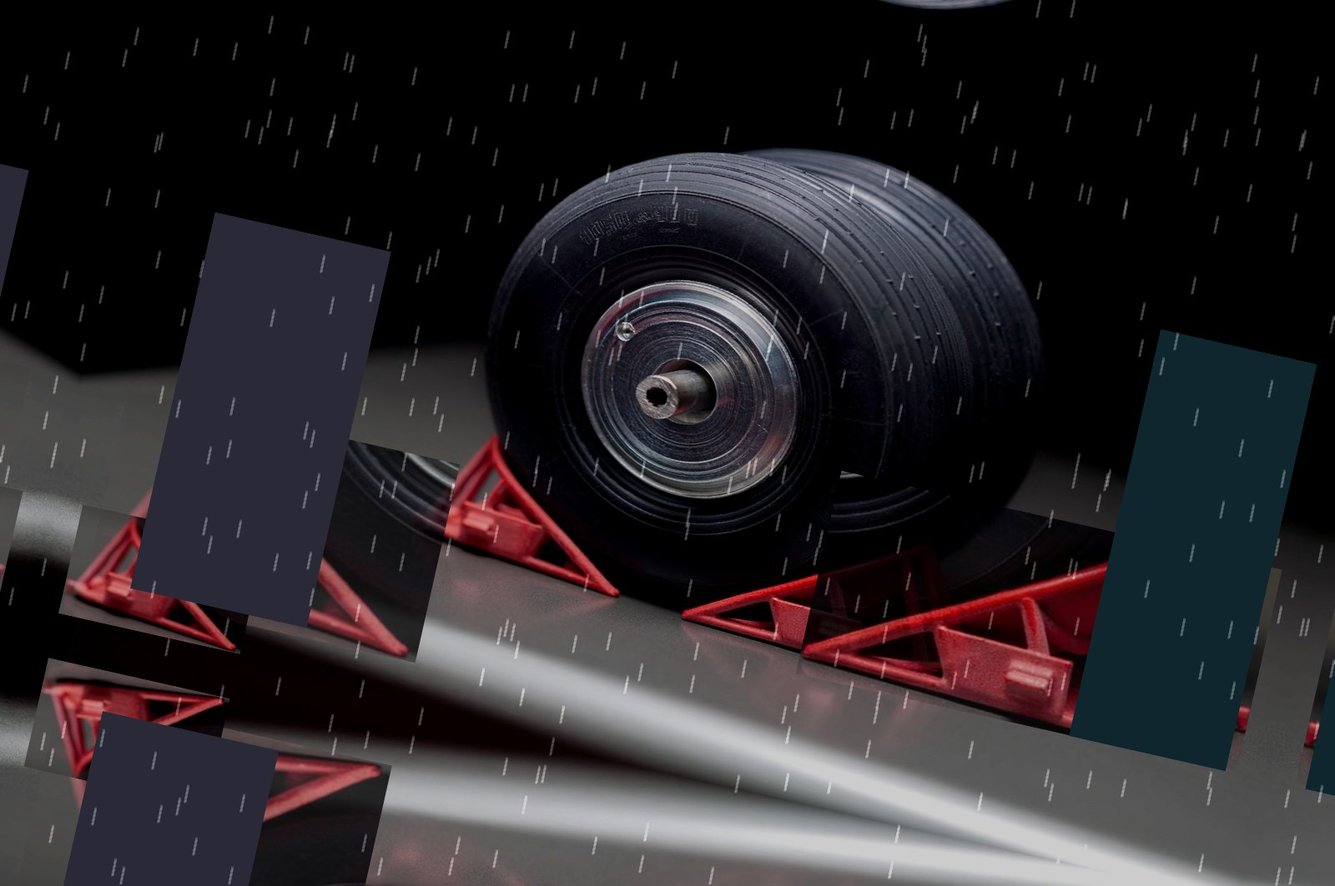chock: (796, 471, 1282, 773), (84, 390, 460, 663), (16, 692, 392, 886), (678, 494, 1003, 696), (403, 419, 654, 602), (24, 658, 230, 808), (58, 505, 264, 654)
wheel: (433, 106, 1024, 670), (597, 121, 1090, 643)
